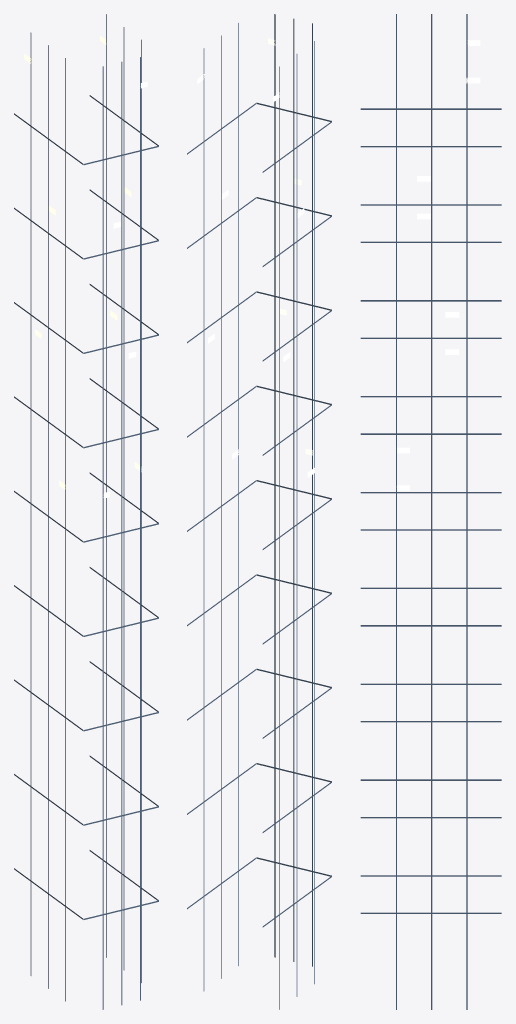
The model's file is SM_MM_N03_Facade.fbx.
3 views of the same model, side by side, from view 1: azimuth 30°, elevation 25°; view 2: azimuth 150°, elevation 25°; view 3: azimuth 270°, elevation 25° (orthographic).
Parts seen in each view (by area): view 1: SM_MM_N03_Facade; view 2: SM_MM_N03_Facade; view 3: SM_MM_N03_Facade.
Boxes of the visible parts, x1,y1,x2,y2 form: SM_MM_N03_Facade: [14, 14, 158, 1009]; SM_MM_N03_Facade: [187, 14, 331, 1009]; SM_MM_N03_Facade: [360, 14, 501, 1009].
Size of the model in its own units: 10.05 by 16.03 by 120.
